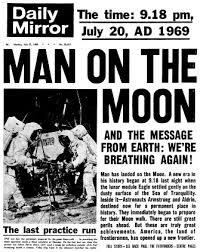Printing industry: (9, 3, 200, 252)
